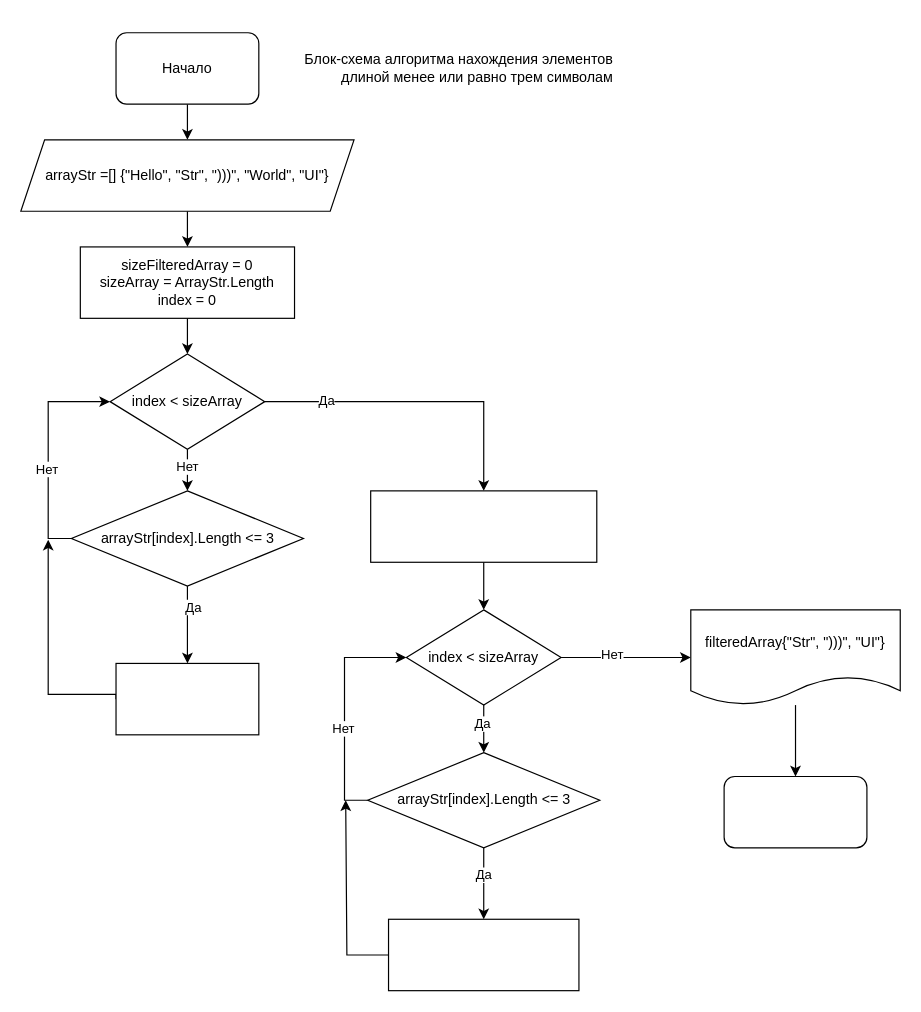
Image size: 921x1012. Some labels were removed from this diagram. The shapes that lost their labels are listed below. From the top down, each one's centre as x and y in pixels, then its label:
the point at 483,526: filteredArray = [sizeFilteredArray] index = 0 count = 0
the point at 187,698: sizeFilteredArray++
the point at 795,811: Конец
the point at 483,954: filteredArray[count] = arrayStr[index] count++
